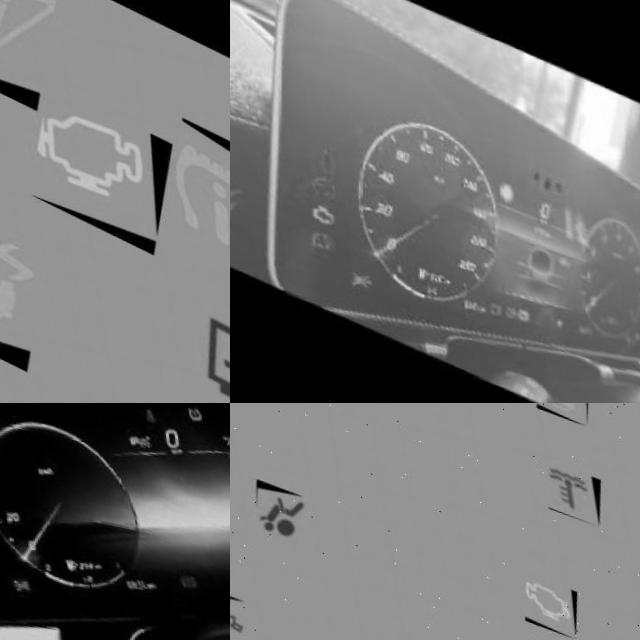Low fuel level: (395, 251, 413, 270), (45, 548, 60, 564)
